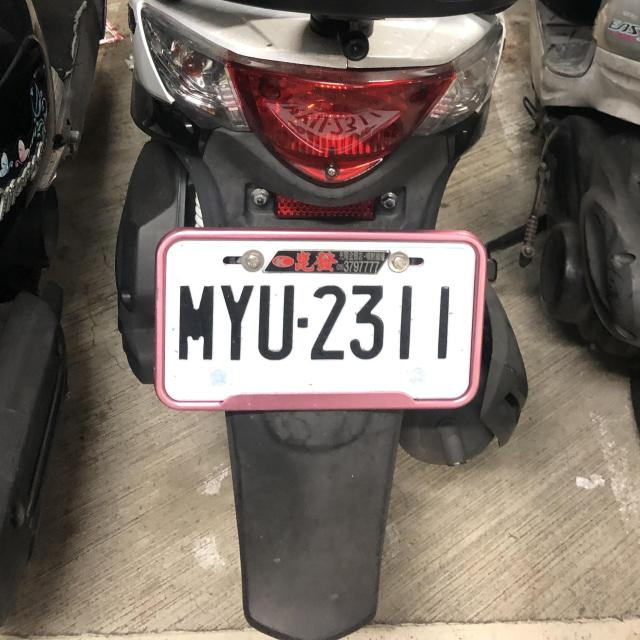W: (152, 228, 483, 405)
